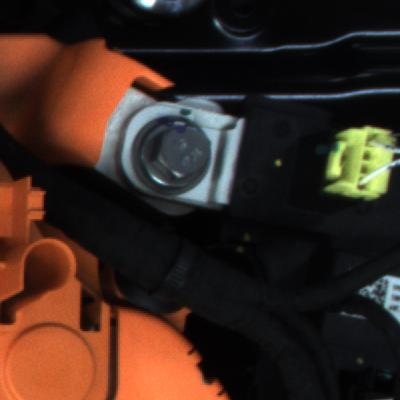nut_b: (117, 110, 228, 200)
